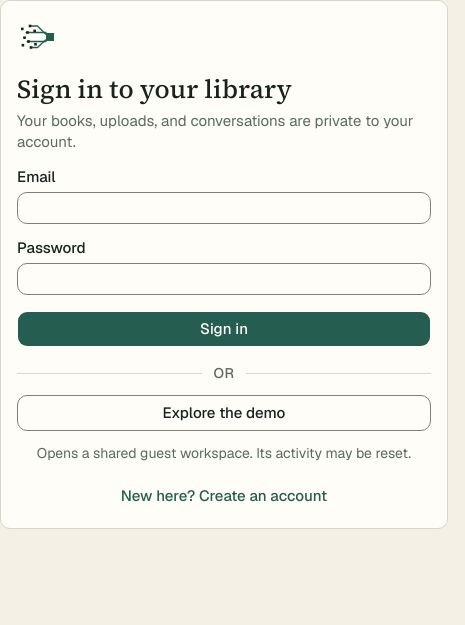
Test case: AuthGate demo sign-in › shows an actionable error when demo sign-in fails
Click the button "Explore the demo" at point(224, 413), box [17, 395, 431, 431]
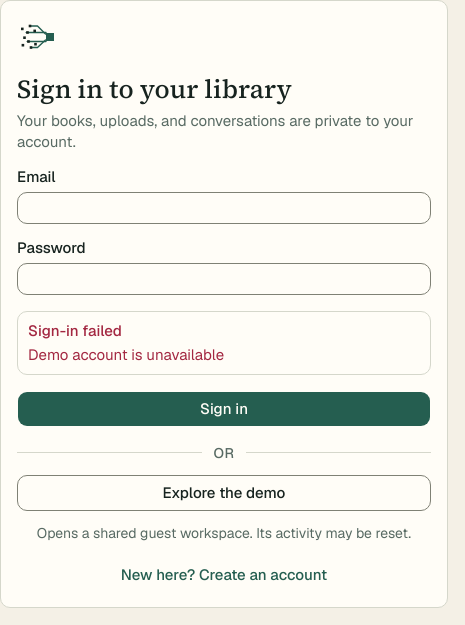
Now the text "Demo account is unavailable" is shown, box [28, 345, 224, 364]
